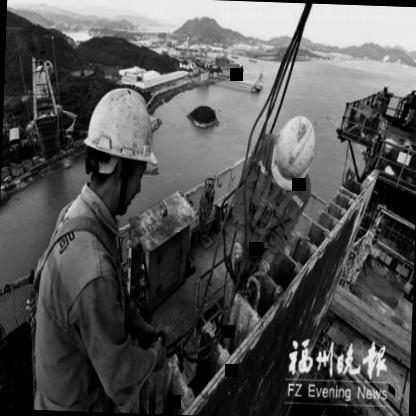helmet: (83, 85, 159, 215), (272, 116, 316, 193)
